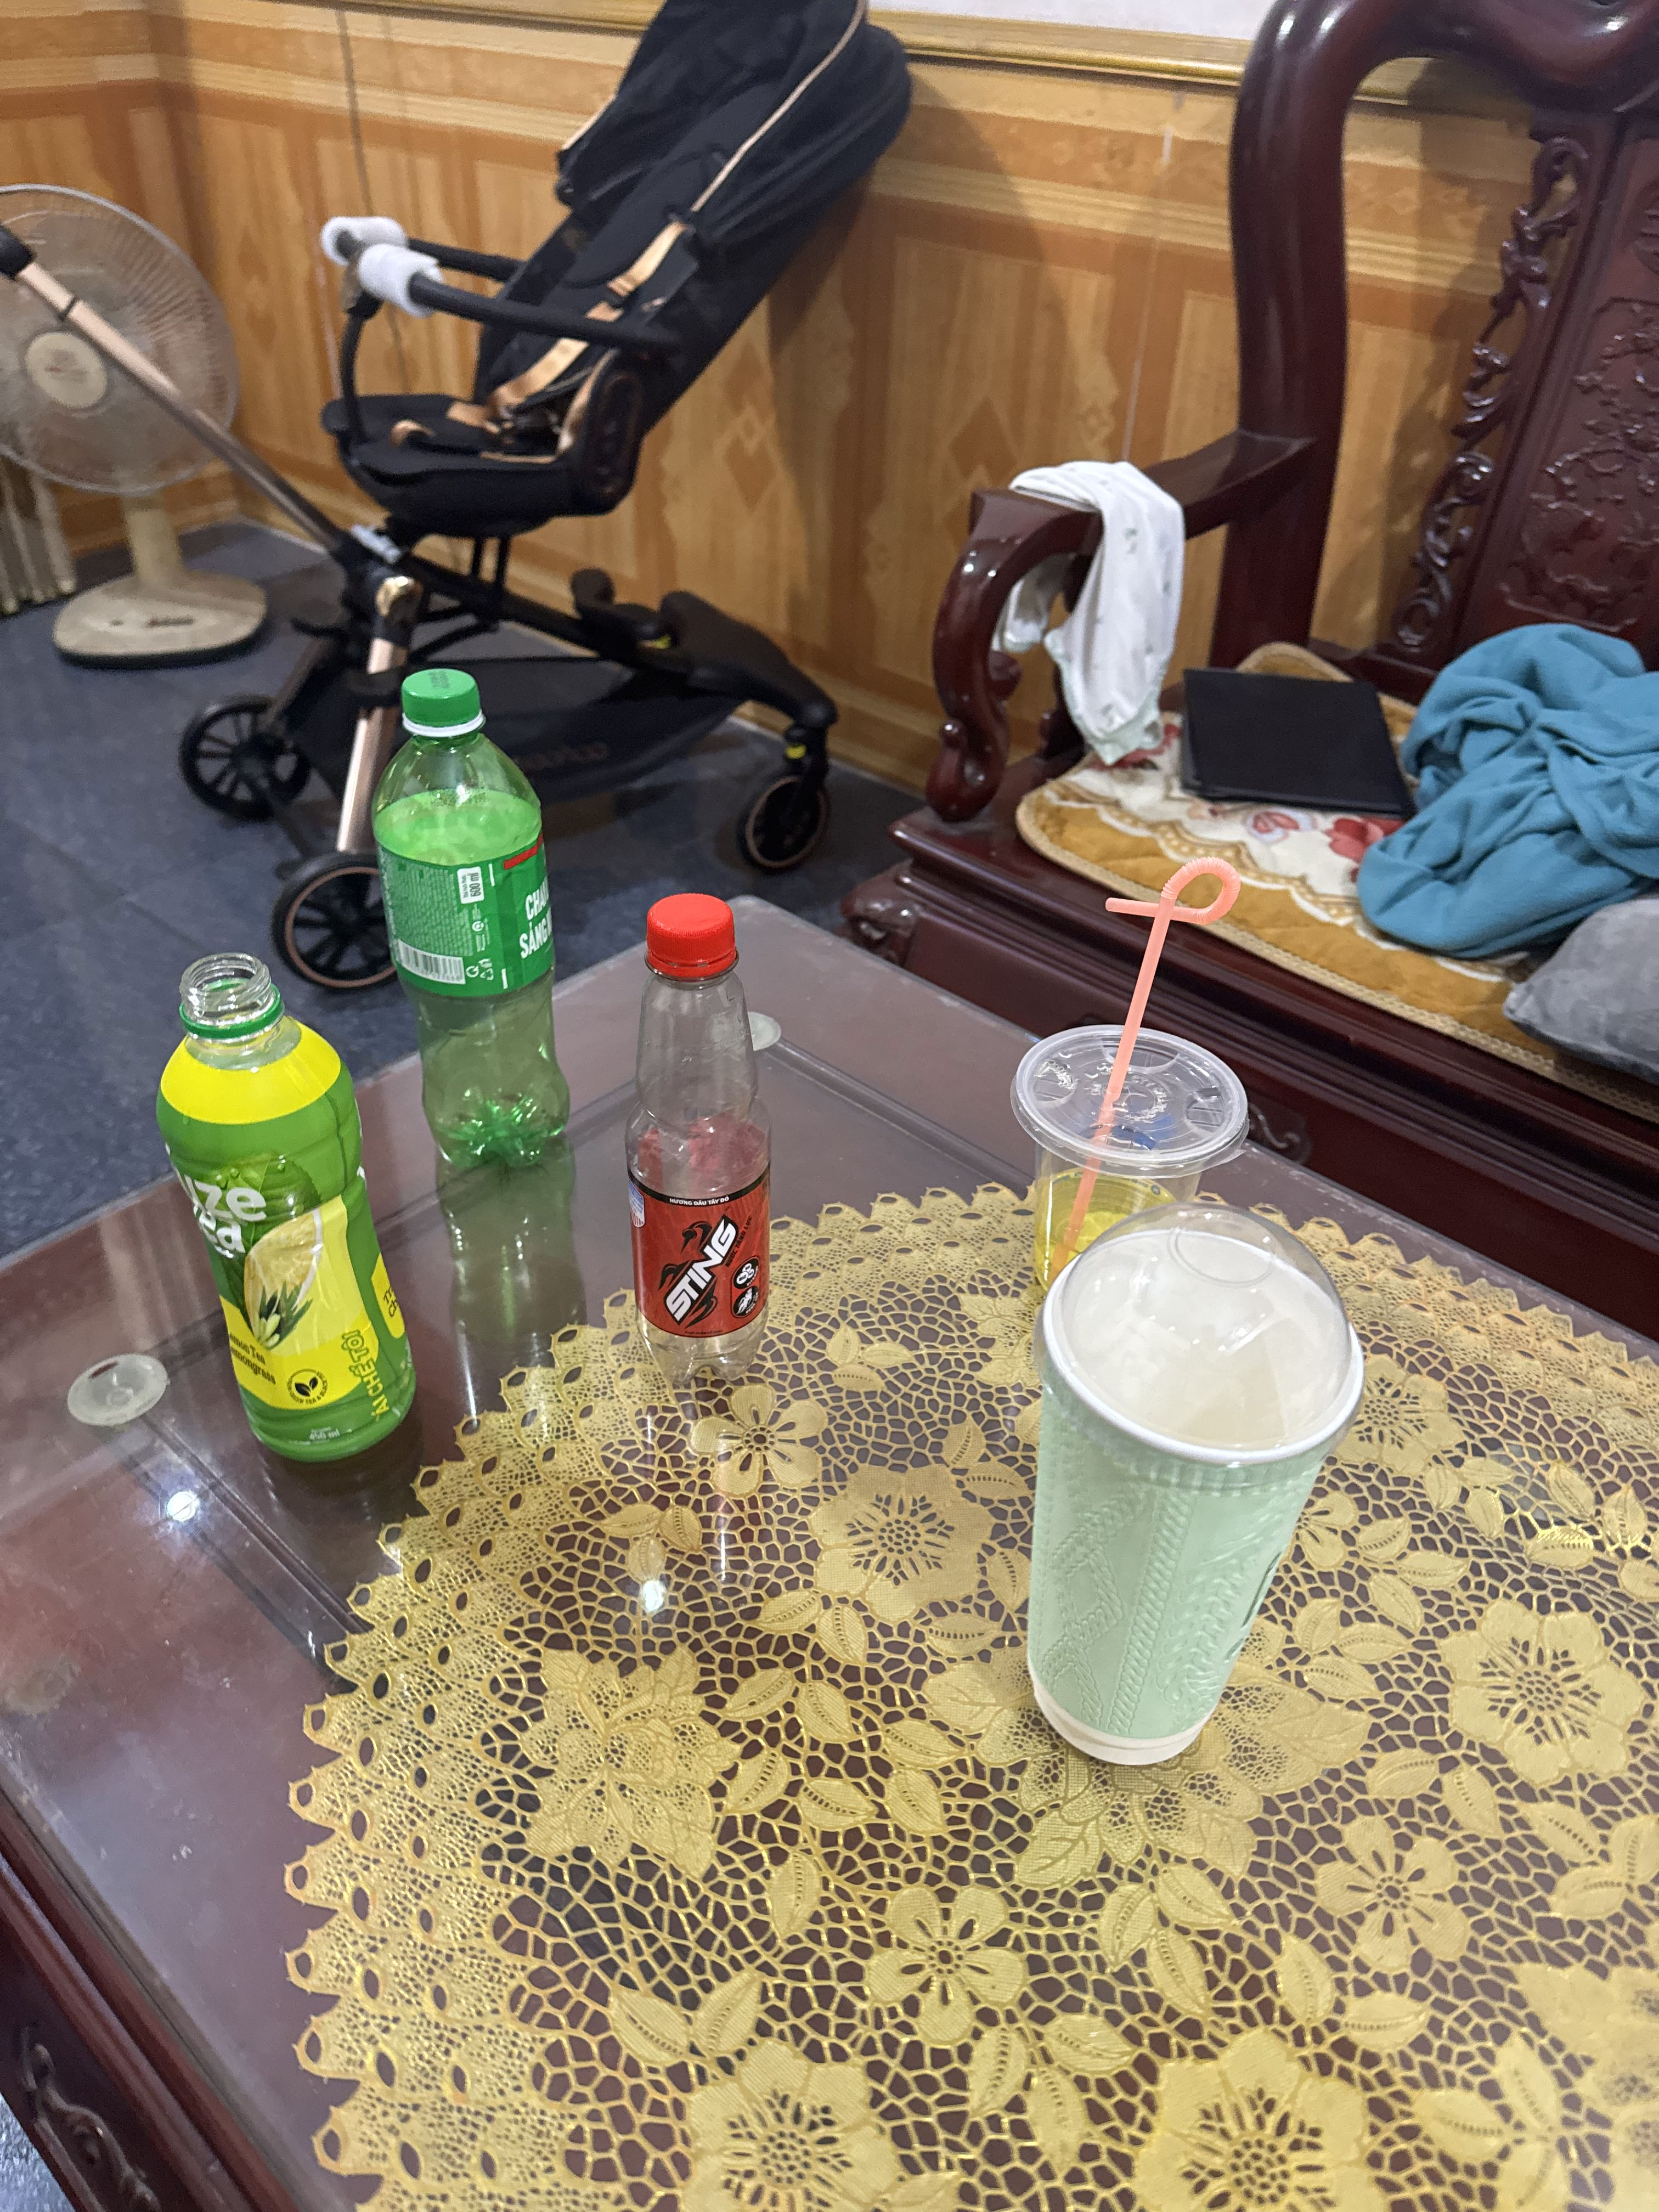2: (983, 1191, 1370, 1792), (981, 1003, 1269, 1308)
bottle: (129, 937, 458, 1486), (343, 660, 622, 1197), (575, 874, 831, 1430)
